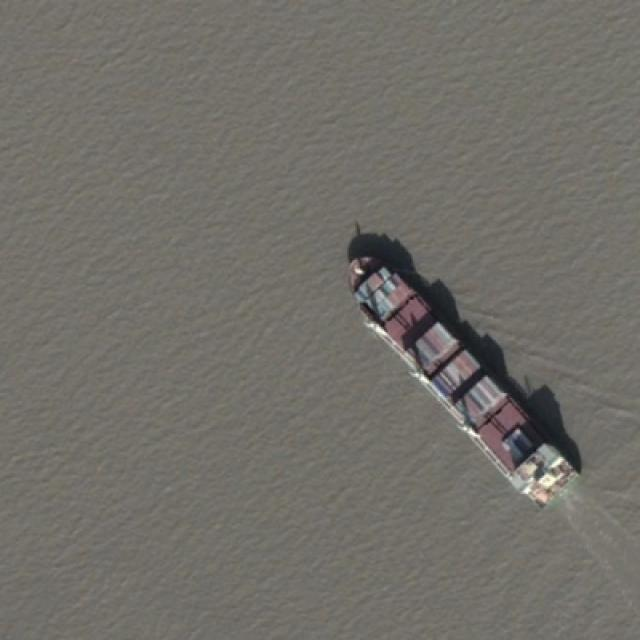boat: (344, 244, 582, 515)
